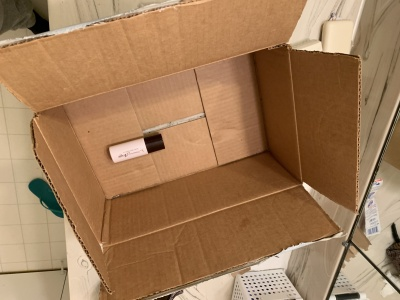innerbox: (75, 93, 304, 208)
outerbox: (1, 26, 361, 297)
product: (108, 135, 165, 165)
